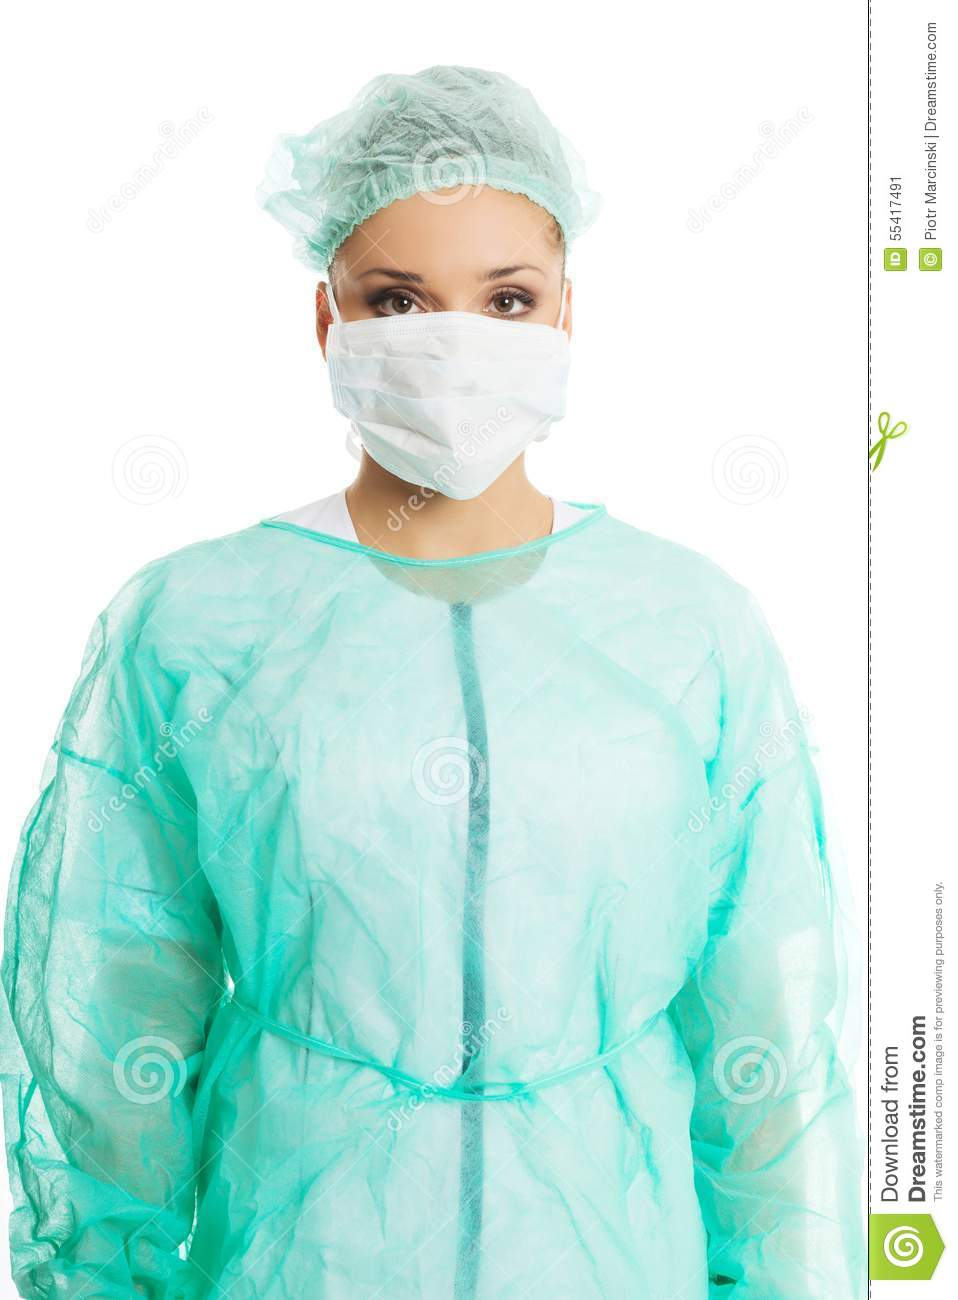mask: (329, 307, 579, 509)
